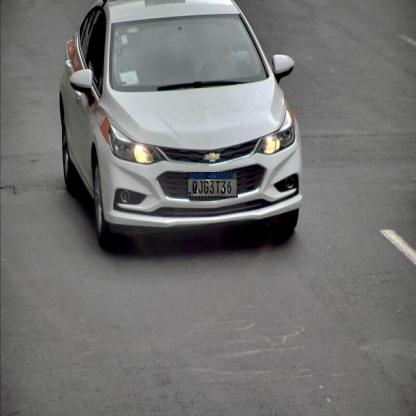PlacaM: (187, 172, 238, 198)
